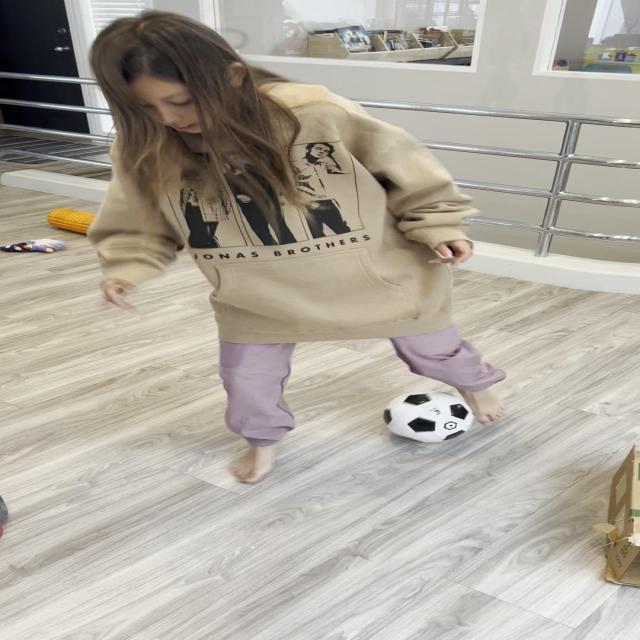Soccer Ball: (384, 390, 475, 442)
